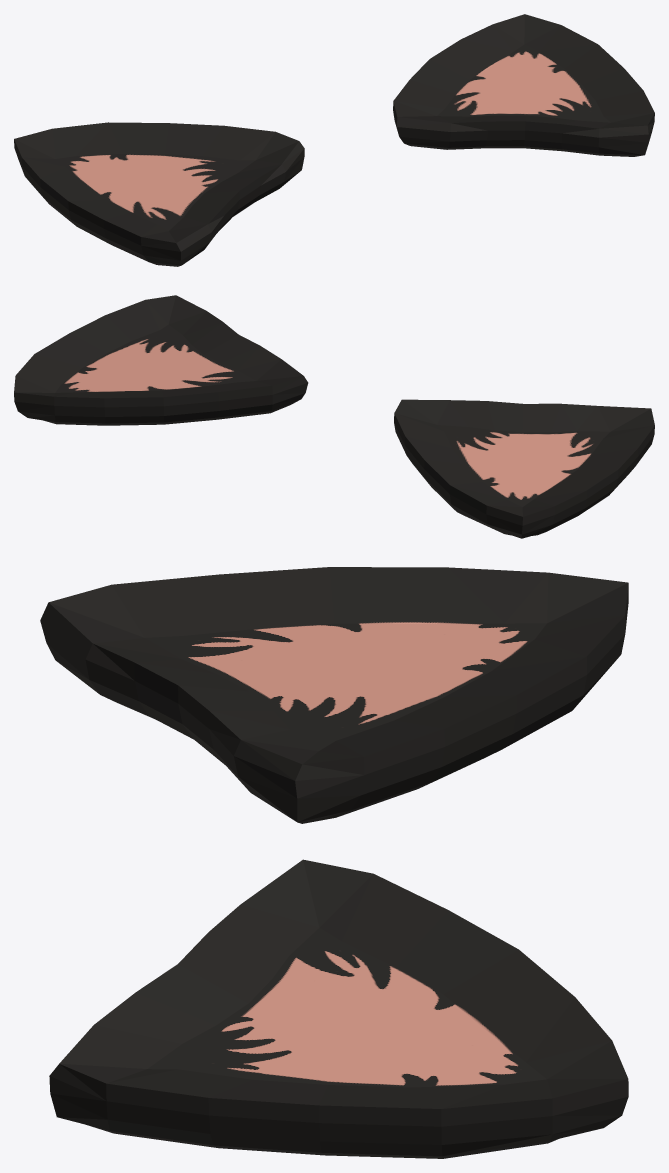
Rendered from cat_ears.glb.
The picture shows the model from 3 angles, top to bottom: view 1: azimuth 30°, elevation 25°; view 2: azimuth 150°, elevation 25°; view 3: azimuth 270°, elevation 25°; orthographic projection. The views are drawn at different scales.
Parts seen in each view (by area): view 1: Plane, Plane.001; view 2: Plane.001, Plane; view 3: Plane.001, Plane.
Part boxes in pixels (<box>): Plane: <box>14,122,304,266</box>; Plane.001: <box>393,14,654,156</box>; Plane.001: <box>14,295,308,425</box>; Plane: <box>394,399,654,538</box>; Plane.001: <box>49,859,628,1158</box>; Plane: <box>40,567,628,823</box>.
Bounding box in the file's own units: 4.15 × 0.4128 × 1.9.
1 material, 1 textured.
